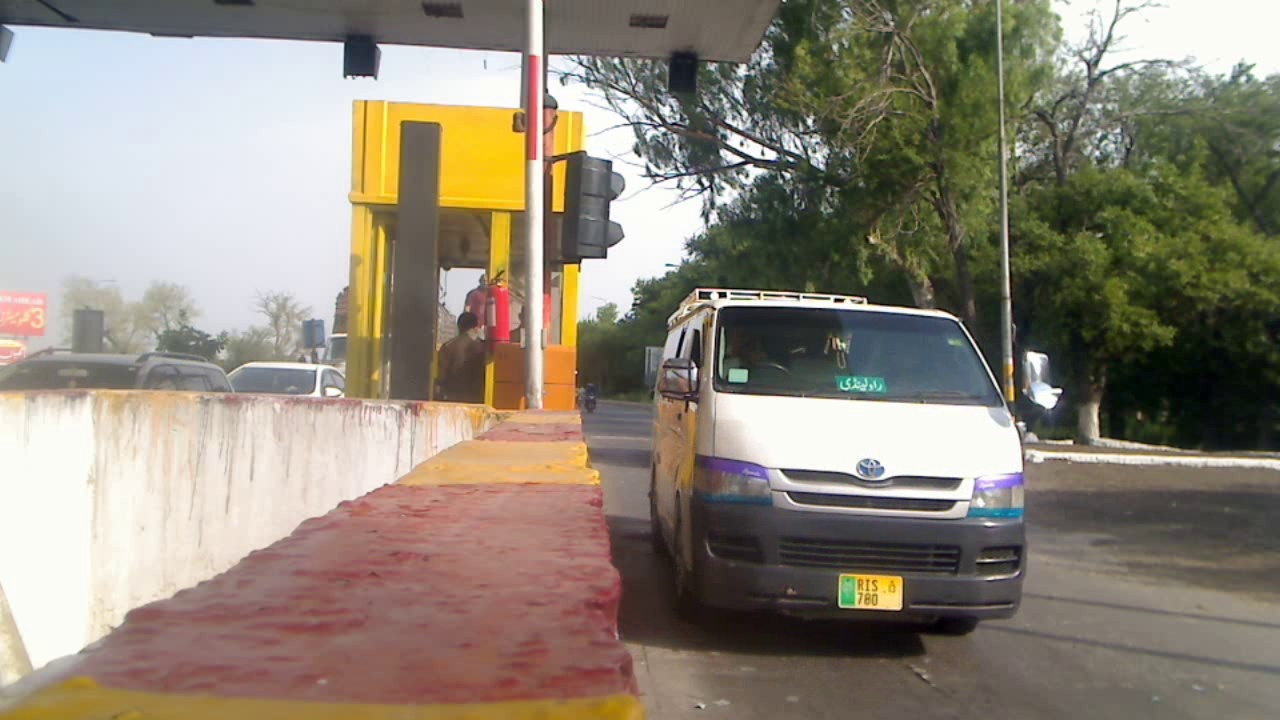Number Plate (Car): (842, 575, 901, 607)
